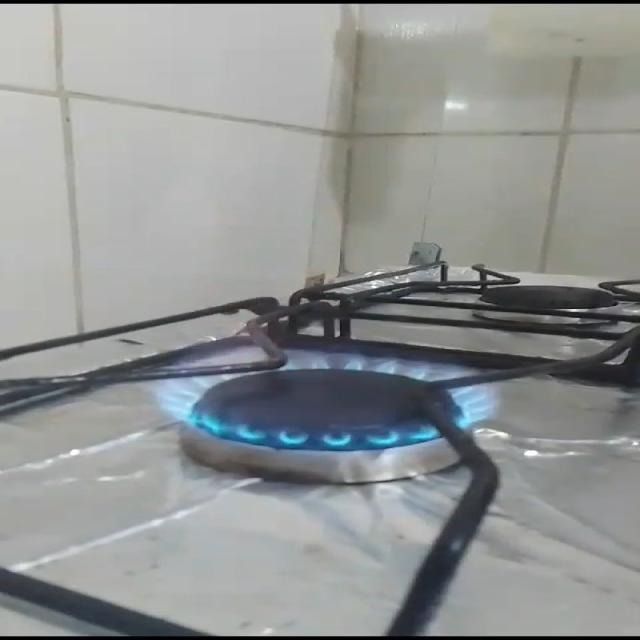fogo-ypXI: (137, 347, 507, 450)
